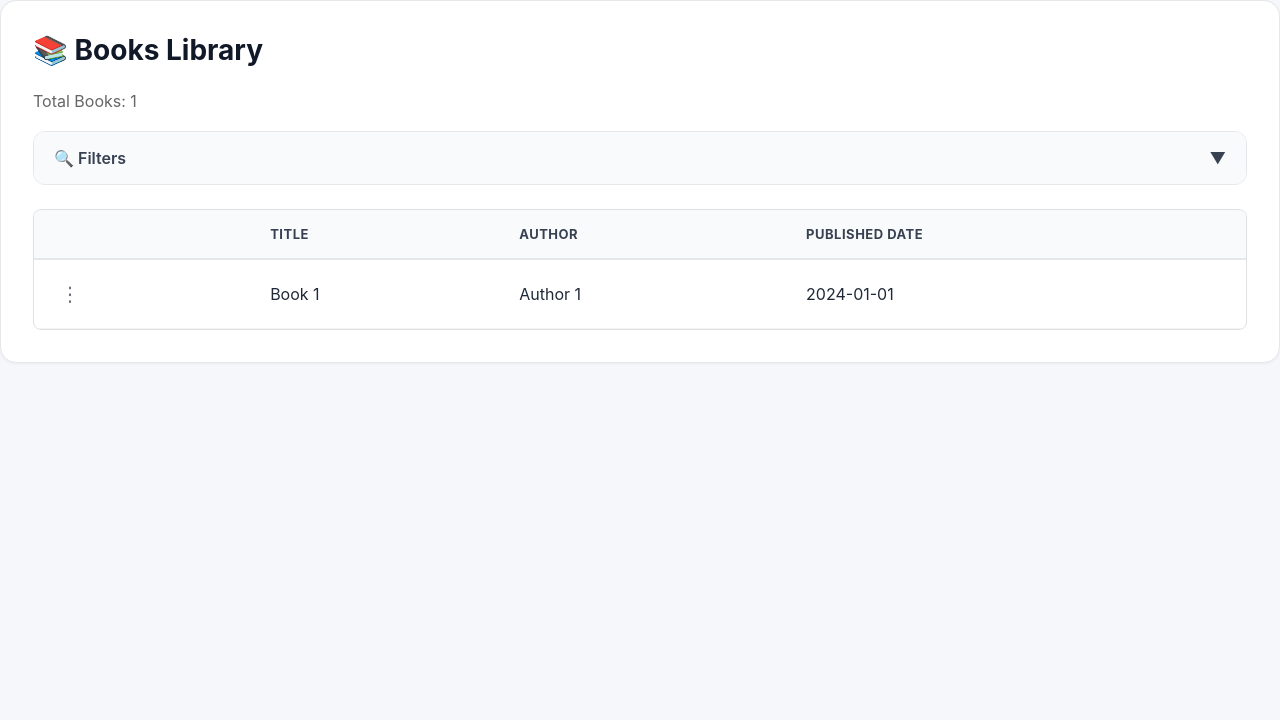
BooksList Component › shows error popup when delete fails
Click the button with test id "kebab-menu-1". click: (70,294)
box: 50,276 -> 90,312
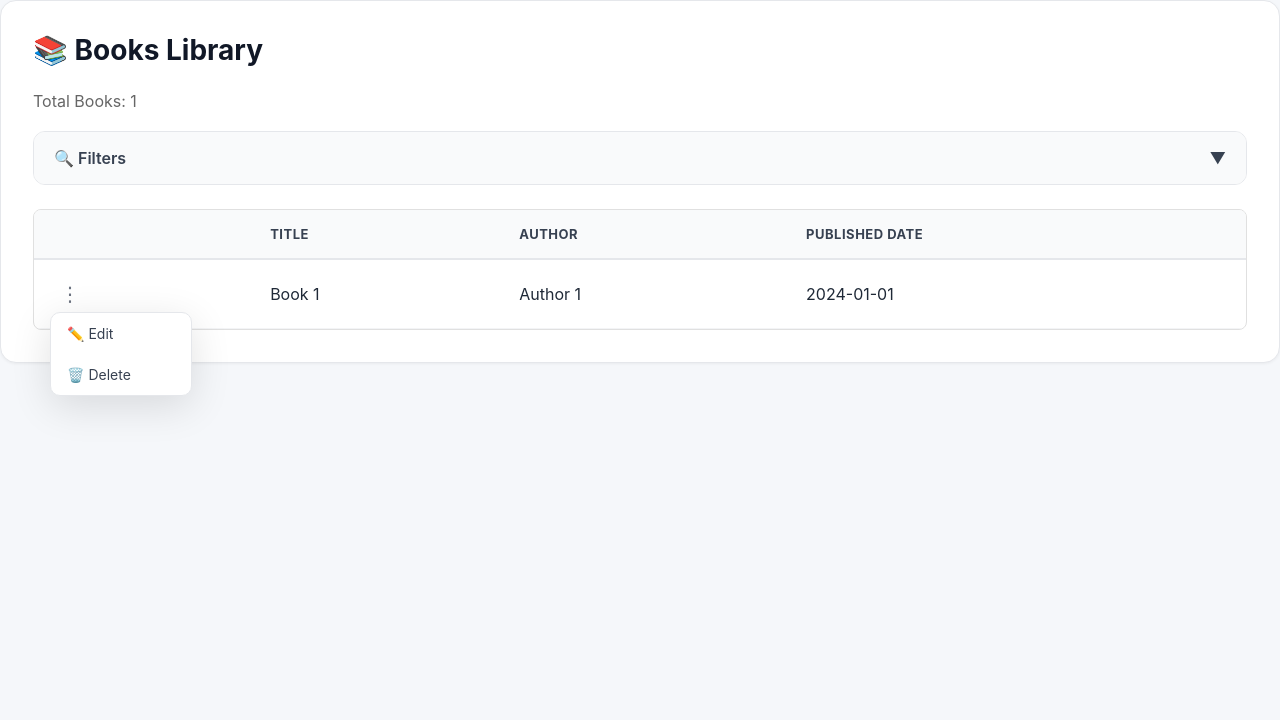
Click the text "🗑️ Delete". click: (99,374)
box: 67,366 -> 131,383
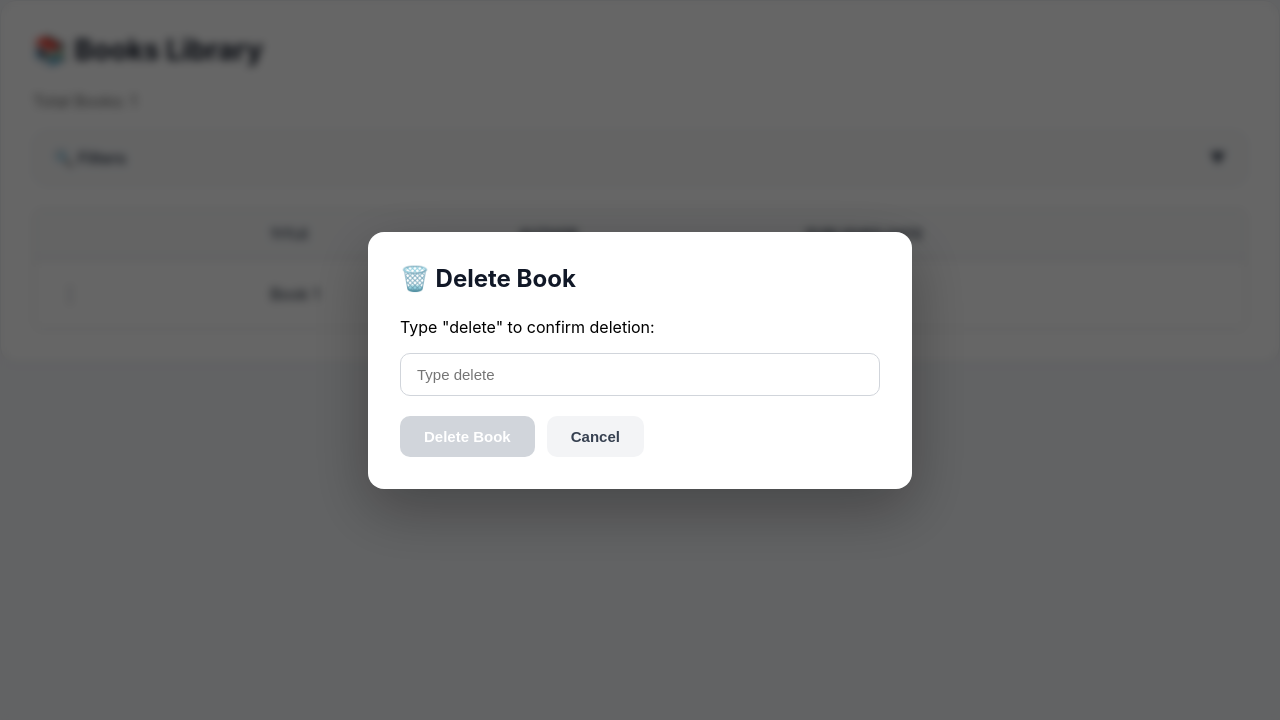
Type "delete" into the field with test id "delete-confirm-input". click: (640,374)
box: 400,352 -> 880,396
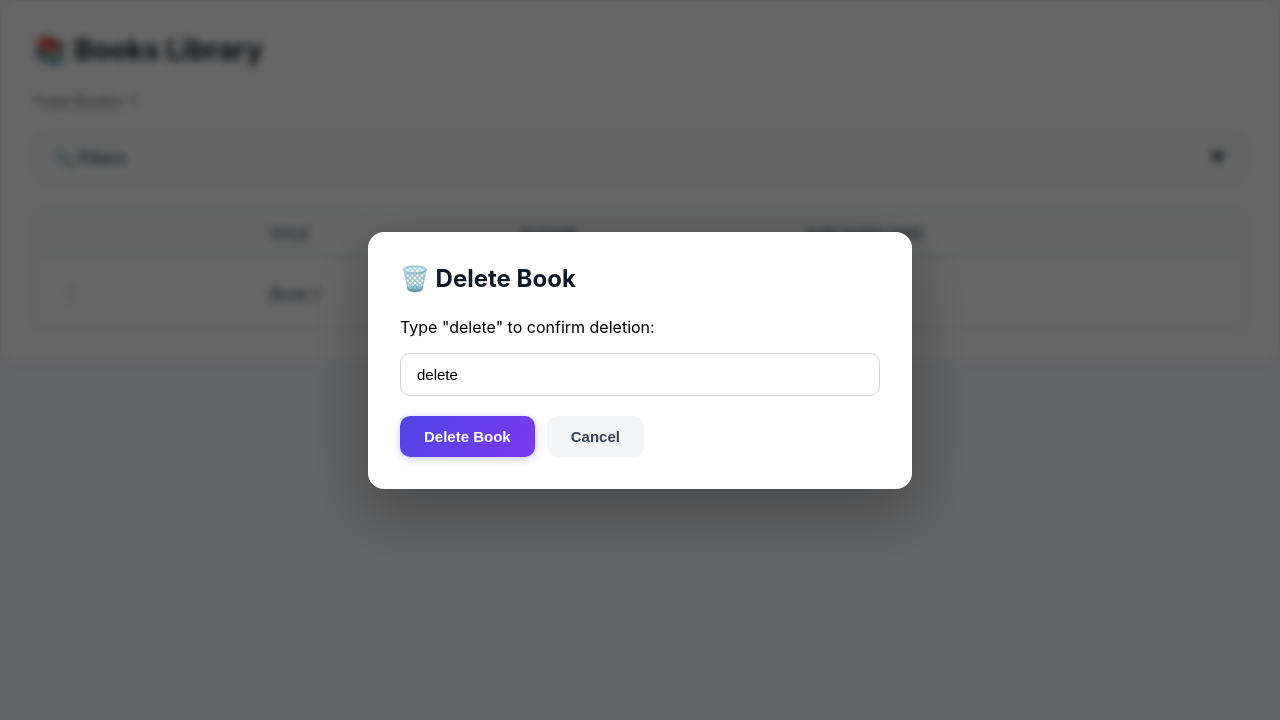
Click the button with test id "delete-confirm-button". click: (467,436)
box: 400,416 -> 535,456
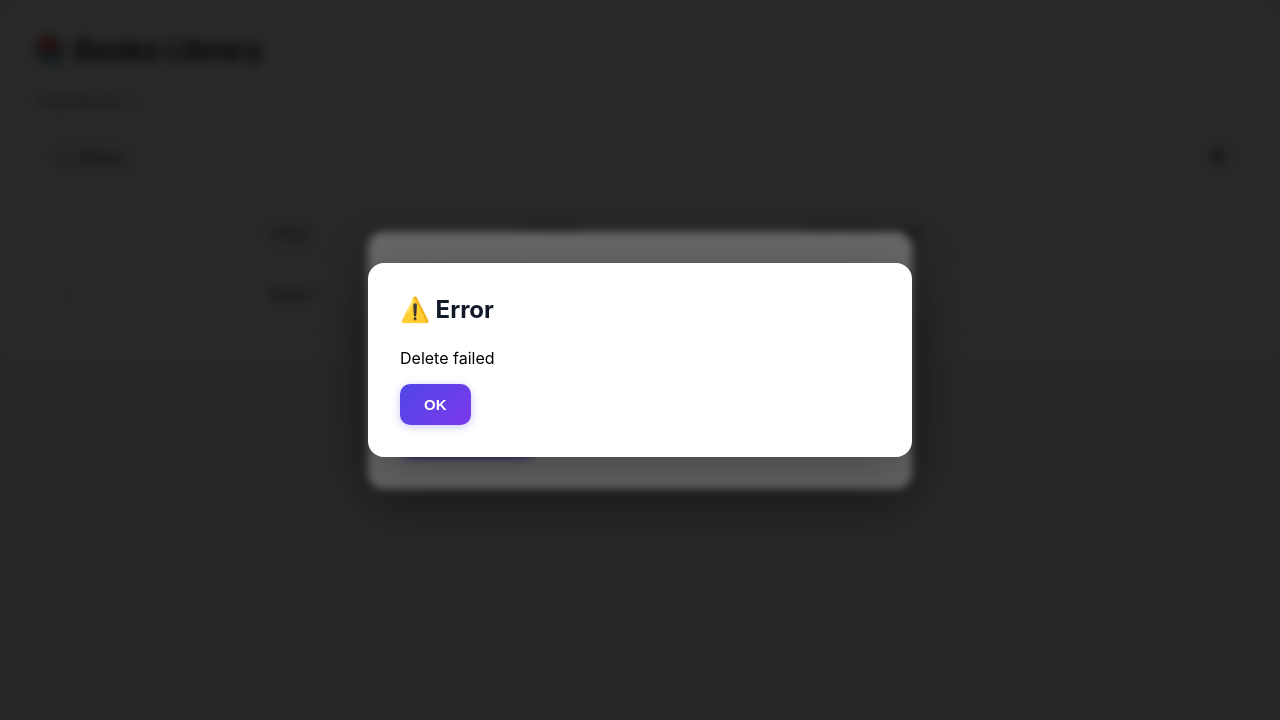
Now the text "Delete failed" is shown, box 400,348 -> 494,368
